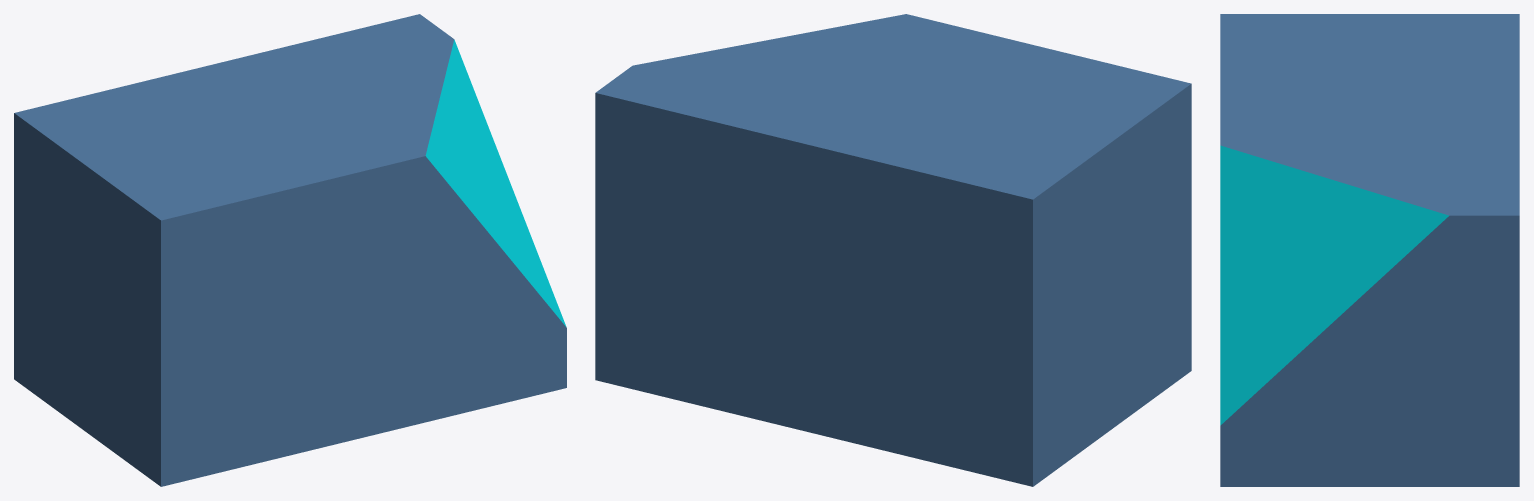
The picture shows the model from 3 angles, left to right: view 1: azimuth 30°, elevation 25°; view 2: azimuth 150°, elevation 25°; view 3: azimuth 270°, elevation 25°; orthographic projection. The views are drawn at different scales.
Parts seen in each view (by area): view 1: base; view 2: base; view 3: base.
Boxes of the visible parts, x1,y1,x2,y2 form: base: (14,14,566,486); base: (595,14,1191,486); base: (1220,14,1519,486).
Bounding box in the file's own units: 92.98 × 58.33 × 58.33.
